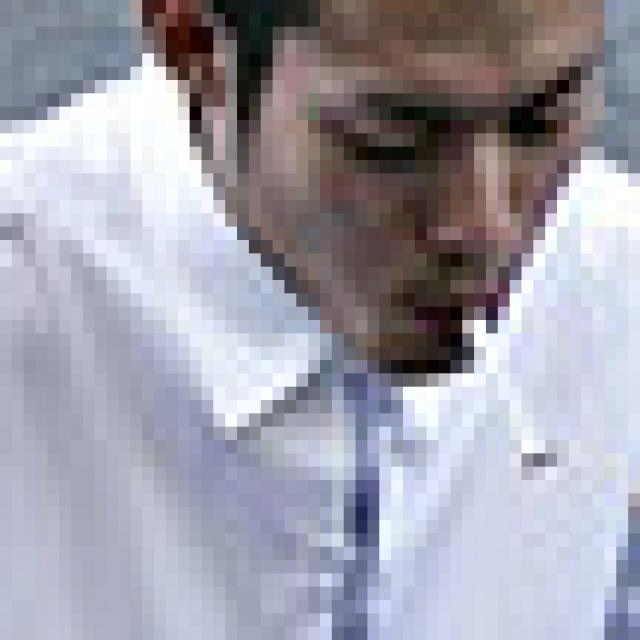smoking: (466, 306, 557, 478)
